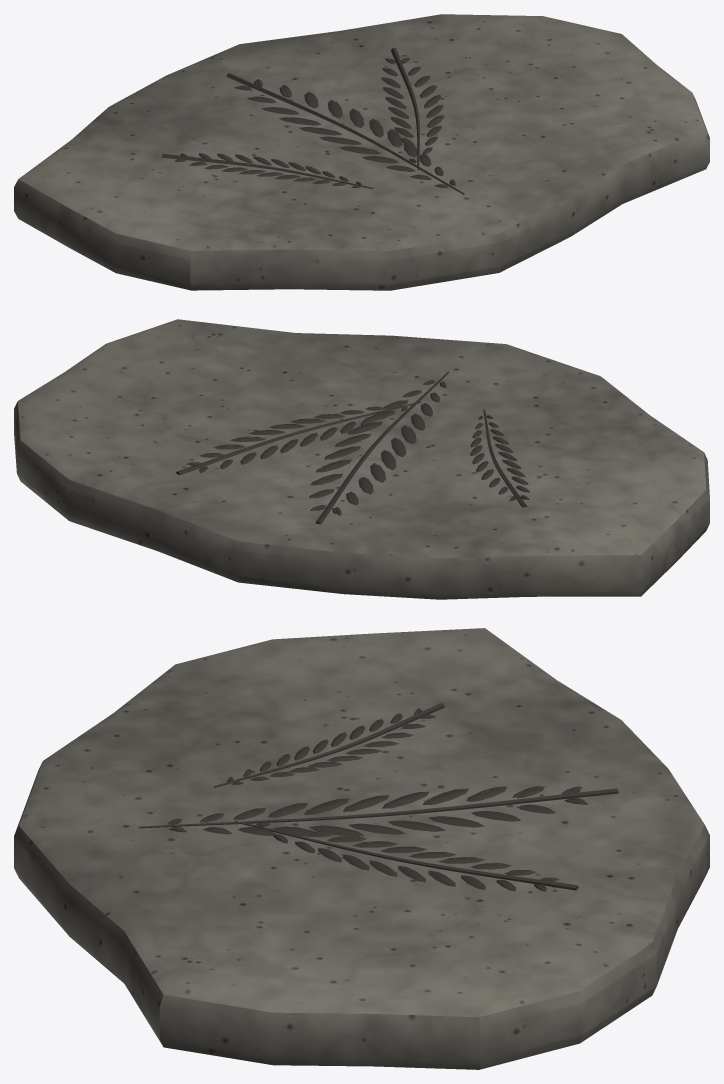
The model's file is fern-fossil-plate.glb.
3 views of the same model, one above another, from view 1: azimuth 30°, elevation 25°; view 2: azimuth 150°, elevation 25°; view 3: azimuth 270°, elevation 25° (orthographic). The views are drawn at different scales.
Visible parts, largest first — view 1: Fern_Fossil_Plate; view 2: Fern_Fossil_Plate; view 3: Fern_Fossil_Plate.
Boxes of the visible parts, x1,y1,x2,y2 form: Fern_Fossil_Plate: (14, 14, 709, 290); Fern_Fossil_Plate: (14, 319, 709, 599); Fern_Fossil_Plate: (14, 628, 709, 1069).
Size of the model in its own units: 0.6894 by 0.0529 by 0.5154.
Materials: 2 (1 with a texture image).
